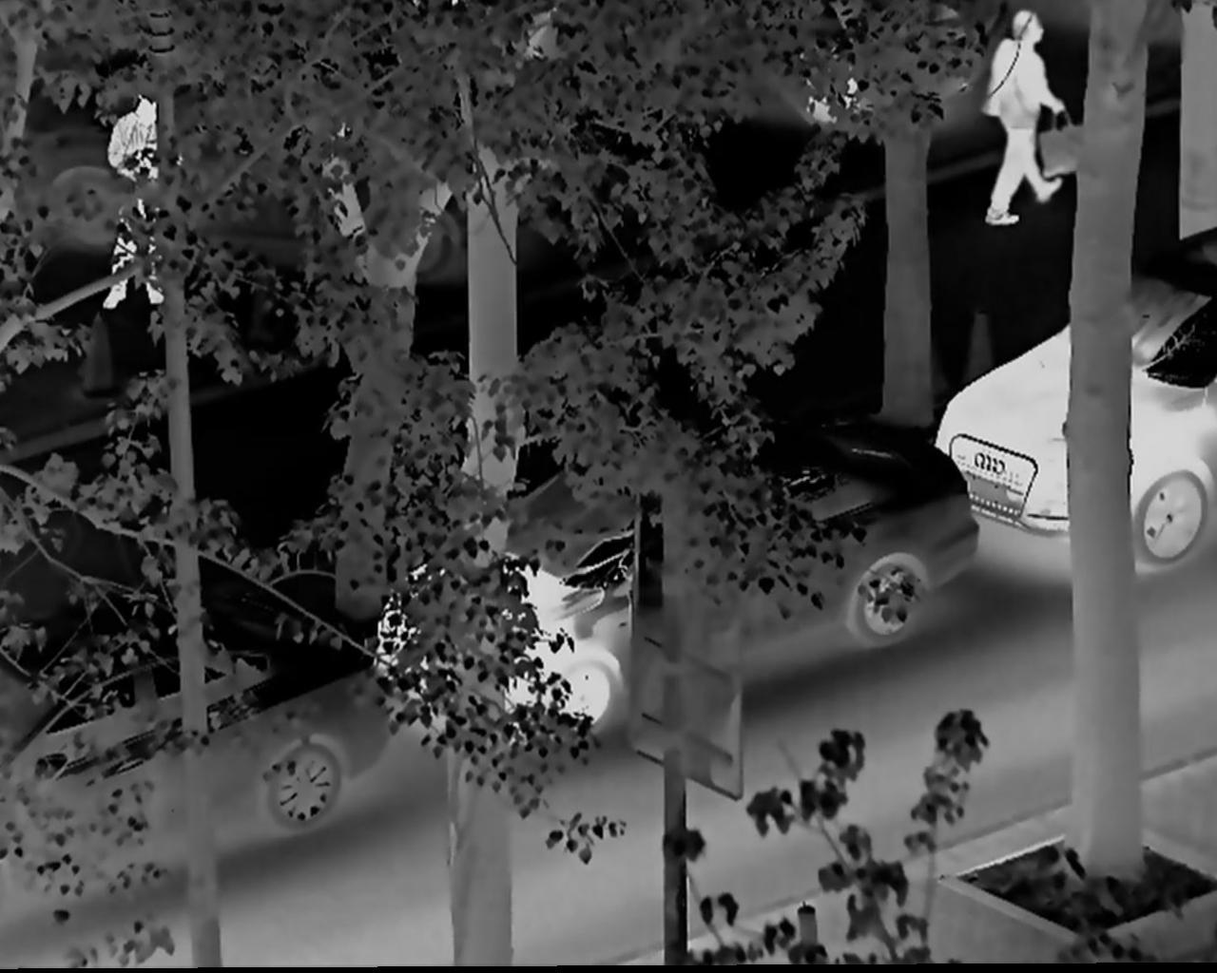person: (92, 86, 198, 320), (983, 3, 1065, 223)
